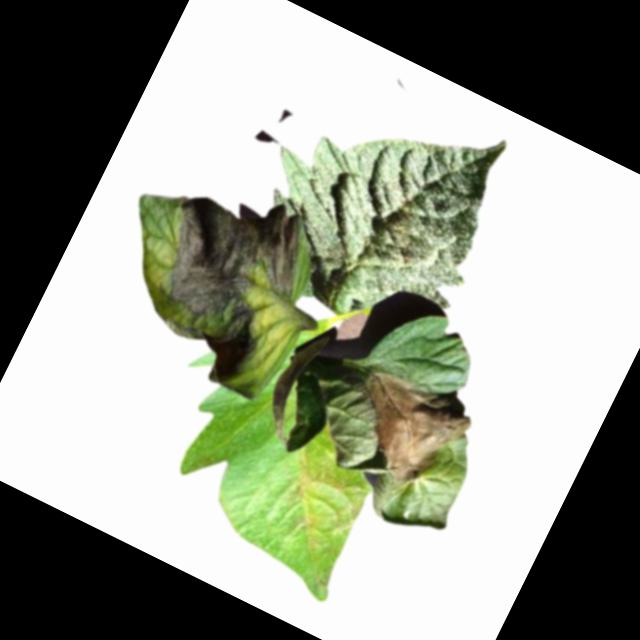Late_blight: (114, 163, 327, 395), (325, 349, 483, 503), (258, 431, 383, 565)
healthy: (227, 53, 529, 359)
